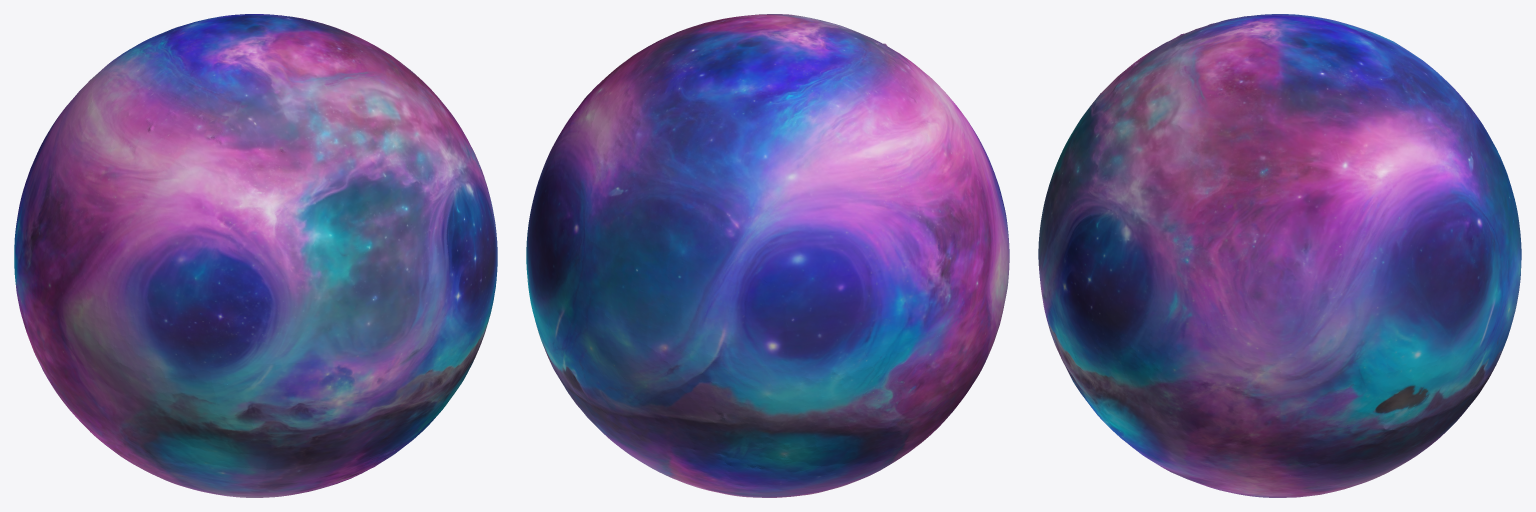
The model's file is new_planet.fbx.
The picture shows the model from 3 angles, left to right: view 1: azimuth 30°, elevation 25°; view 2: azimuth 150°, elevation 25°; view 3: azimuth 270°, elevation 25°; orthographic projection.
Visible parts, largest first — view 1: temp; view 2: temp; view 3: temp.
Part boxes in pixels (left/top/right/bottom): temp: left=14, top=14, right=497, bottom=497; temp: left=526, top=14, right=1009, bottom=497; temp: left=1038, top=14, right=1521, bottom=497.
Bounding box in the file's own units: 11.4 × 11.41 × 11.4.
1 material, 1 textured.
